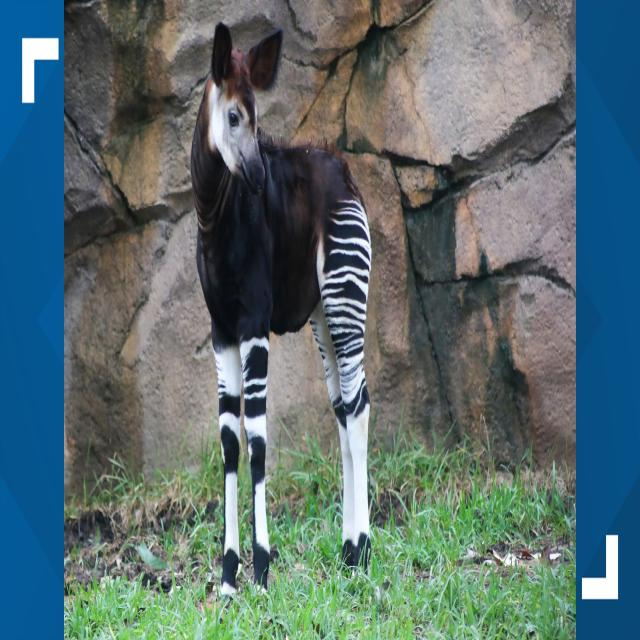Okapi: (191, 26, 372, 570)
